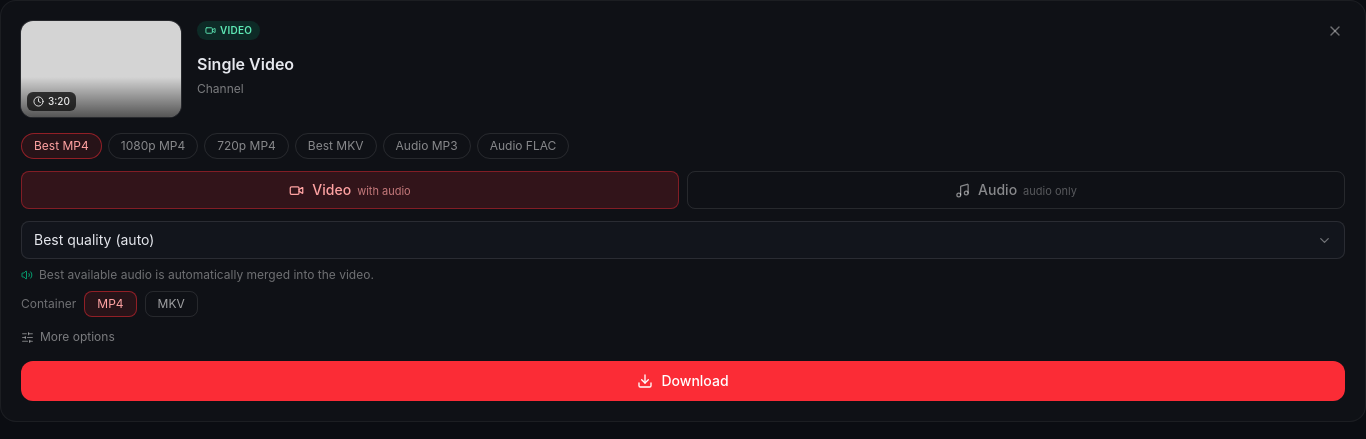
Scenario: MediaCard › switches to audio mode and shows audio formats
Step 1. Click the button "Audio audio only" → (1016, 190), box [687,171,1345,209]
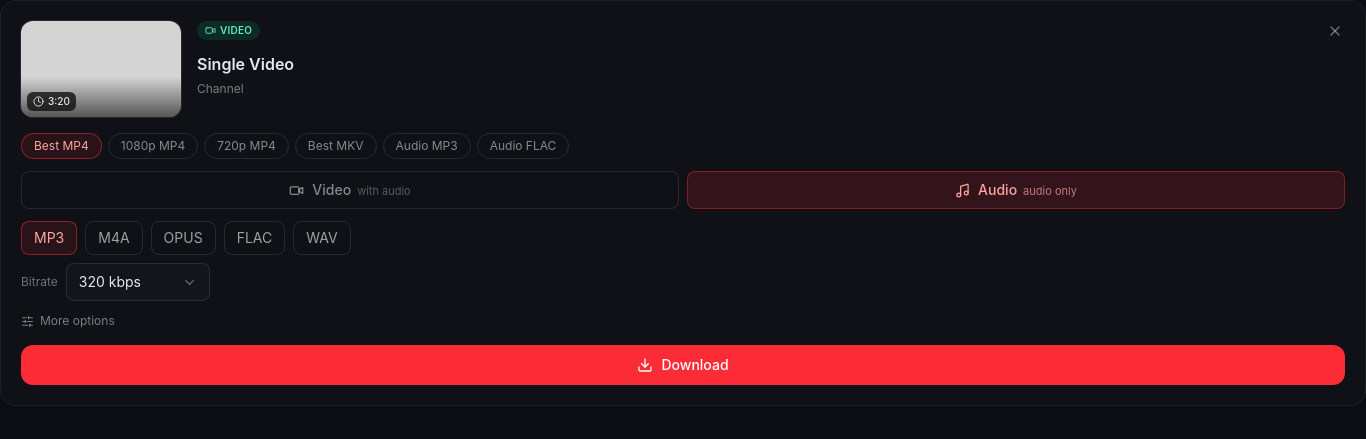
Expected: the button "mp3" is shown, [21,221,77,255]
Expected: the button "flac" is shown, [224,221,285,255]
